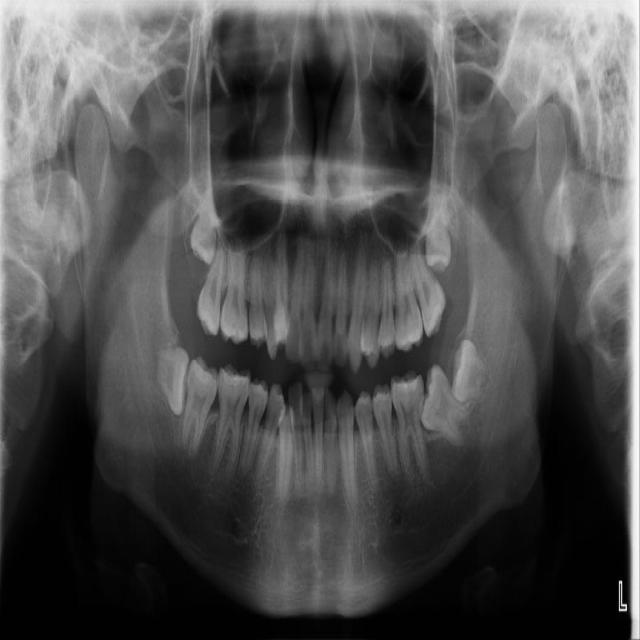3M ESPE Implant: (188, 187, 220, 265)
73: (545, 550, 550, 560)
BioHorizons Implant: (403, 232, 454, 339)
BioLife Implant: (423, 182, 452, 273)
Biomet 3i Implant: (451, 338, 493, 404)
Blue Sky Bio Implant: (414, 362, 473, 443)
Caries: (193, 236, 228, 337)
Implant: (178, 353, 222, 458)
Keystone Dental Implant: (153, 346, 191, 416)
